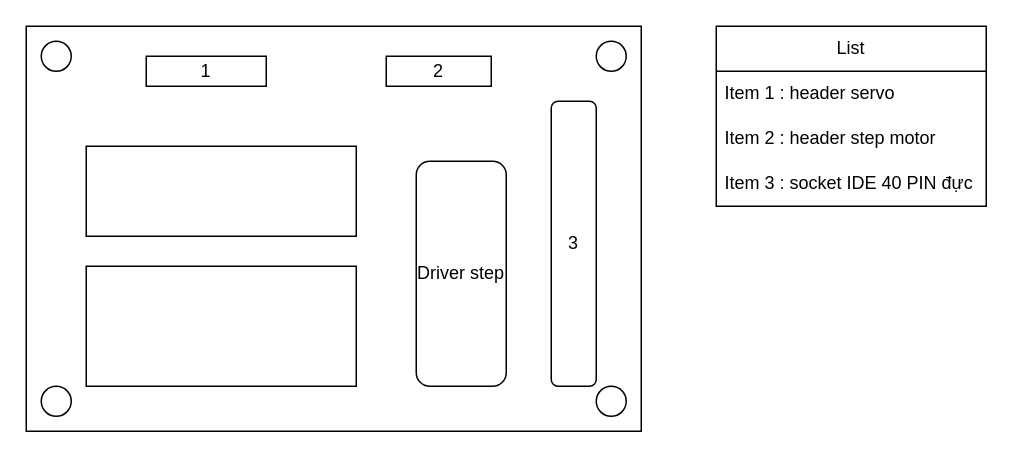
Image size: 1013x458. Some labels were removed from this diagram. Each missing label, with the centre of its shape:
"Power" goes at point 220,325.
"Servo ctrl" goes at point 220,190.
